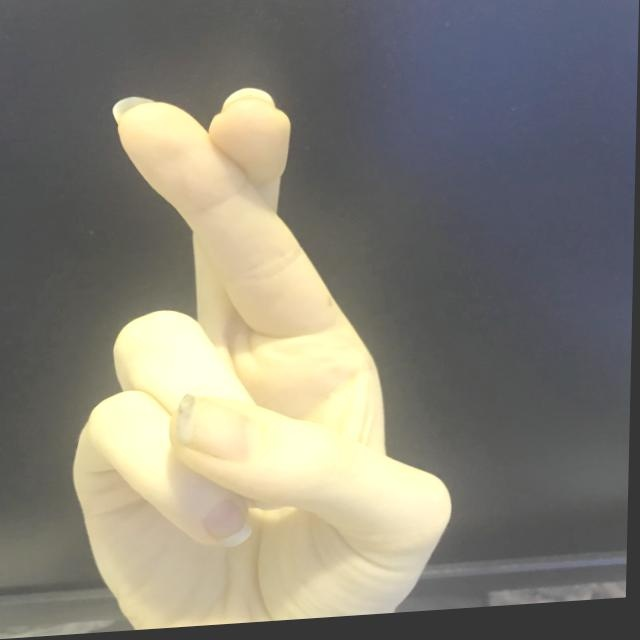R: (64, 71, 470, 635)
